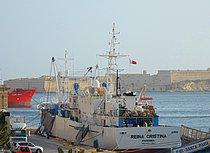Ship: (32, 22, 186, 153)
